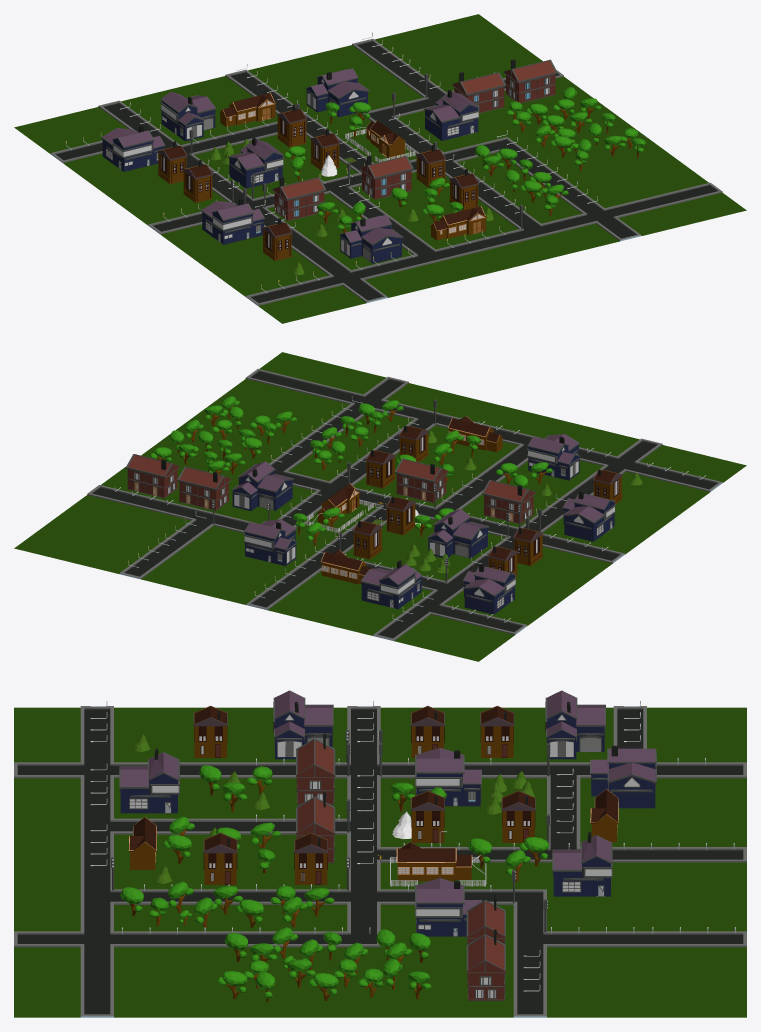
File: map.fbx
The picture shows the model from 3 angles, top to bottom: view 1: azimuth 30°, elevation 25°; view 2: azimuth 150°, elevation 25°; view 3: azimuth 270°, elevation 25°; orthographic projection. The views are drawn at different scales.
Parts seen in each view (by area): view 1: Plane, tretoto kushta.002, tretoto kushta.004, tretoto kushta.003, tretoto kushta.005, tretoto kushta, tretoto kushta.006, tretoto kushta.001, kushtaivko.003, kushtaivko.001, kushtaivko, kushtaivko.002 (+10 smaller); view 2: Plane, tretoto kushta, tretoto kushta.001, tretoto kushta.005, tretoto kushta.004, tretoto kushta.003, tretoto kushta.006, tretoto kushta.002, kushtaivko.003, kushtaivko, kushtaivko.002, kushtaivko.001 (+10 smaller); view 3: Plane, tretoto kushta.005, tretoto kushta.003, tretoto kushta.002, tretoto kushta.006, tretoto kushta.004, tretoto kushta.001, tretoto kushta, kushtaivko.003, House, kushtaivko.001, kushta zwei.003 (+10 smaller).
Boxes of the visible parts, bbox=[...] form: Plane: bbox=[14, 14, 746, 323]; tretoto kushta.002: bbox=[339, 214, 403, 263]; tretoto kushta.004: bbox=[200, 198, 265, 244]; tretoto kushta.003: bbox=[101, 125, 165, 171]; tretoto kushta.005: bbox=[160, 91, 216, 141]; tretoto kushta: bbox=[423, 89, 479, 140]; tretoto kushta.006: bbox=[305, 68, 369, 117]; tretoto kushta.001: bbox=[228, 137, 284, 188]; kushtaivko.003: bbox=[504, 59, 557, 103]; kushtaivko.001: bbox=[272, 176, 326, 220]; kushtaivko: bbox=[360, 155, 413, 199]; kushtaivko.002: bbox=[452, 72, 506, 113]; Plane: bbox=[14, 352, 746, 661]; tretoto kushta: bbox=[231, 461, 293, 510]; tretoto kushta.001: bbox=[427, 509, 489, 558]; tretoto kushta.005: bbox=[360, 560, 422, 609]; tretoto kushta.004: bbox=[562, 491, 616, 541]; tretoto kushta.003: bbox=[462, 564, 516, 614]; tretoto kushta.006: bbox=[243, 519, 297, 565]; tretoto kushta.002: bbox=[526, 433, 580, 480]; kushtaivko.003: bbox=[125, 454, 179, 498]; kushtaivko: bbox=[394, 458, 448, 502]; kushtaivko.002: bbox=[177, 466, 231, 510]; kushtaivko.001: bbox=[482, 480, 535, 523]; Plane: bbox=[14, 706, 746, 1017]; tretoto kushta.005: bbox=[590, 745, 656, 808]; tretoto kushta.003: bbox=[545, 690, 605, 759]; tretoto kushta.002: bbox=[119, 748, 179, 813]; tretoto kushta.006: bbox=[552, 831, 612, 896]; tretoto kushta.004: bbox=[273, 690, 333, 759]; tretoto kushta.001: bbox=[415, 747, 481, 806]; tretoto kushta: bbox=[415, 878, 481, 936]; kushtaivko.003: bbox=[466, 929, 505, 1000]; House: bbox=[396, 842, 472, 881]; kushtaivko.001: bbox=[296, 733, 335, 804]; kushta zwei.003: bbox=[203, 832, 237, 884].
Bounding box in the file's own units: 40000 × 3262 × 40000.
10 materials, 7 textured.
